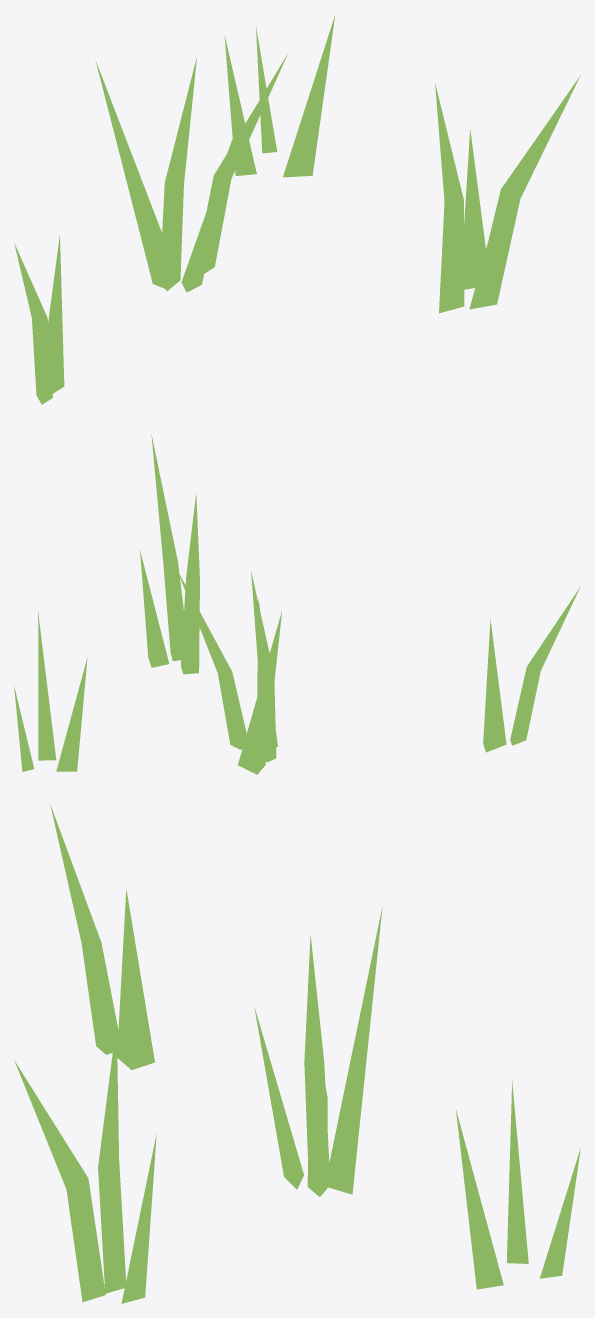
The model's file is Grass3D_a_06.fbx.
3 views of the same model, one above another, from view 1: azimuth 30°, elevation 25°; view 2: azimuth 150°, elevation 25°; view 3: azimuth 270°, elevation 25° (orthographic). The views are drawn at different scales.
Parts seen in each view (by area): view 1: Grass3D_a_06; view 2: Grass3D_a_06; view 3: Grass3D_a_06.
Part boxes in pixels (bbox=[...]): Grass3D_a_06: bbox=[14, 15, 580, 404]; Grass3D_a_06: bbox=[14, 434, 580, 774]; Grass3D_a_06: bbox=[14, 805, 580, 1303].
Bounding box in the file's own units: 1.39 × 0.5995 × 1.08.
